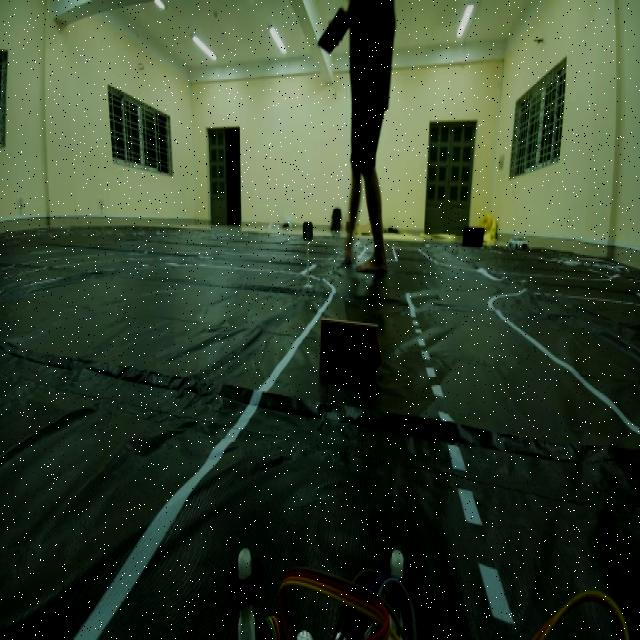roadblock: (311, 294, 388, 398)
